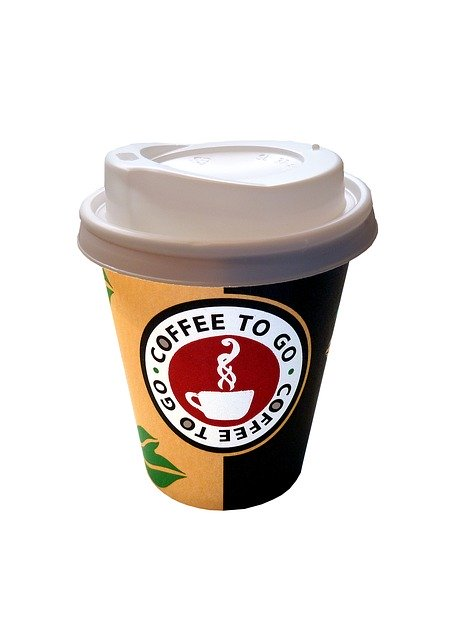cup: (69, 119, 398, 527)
